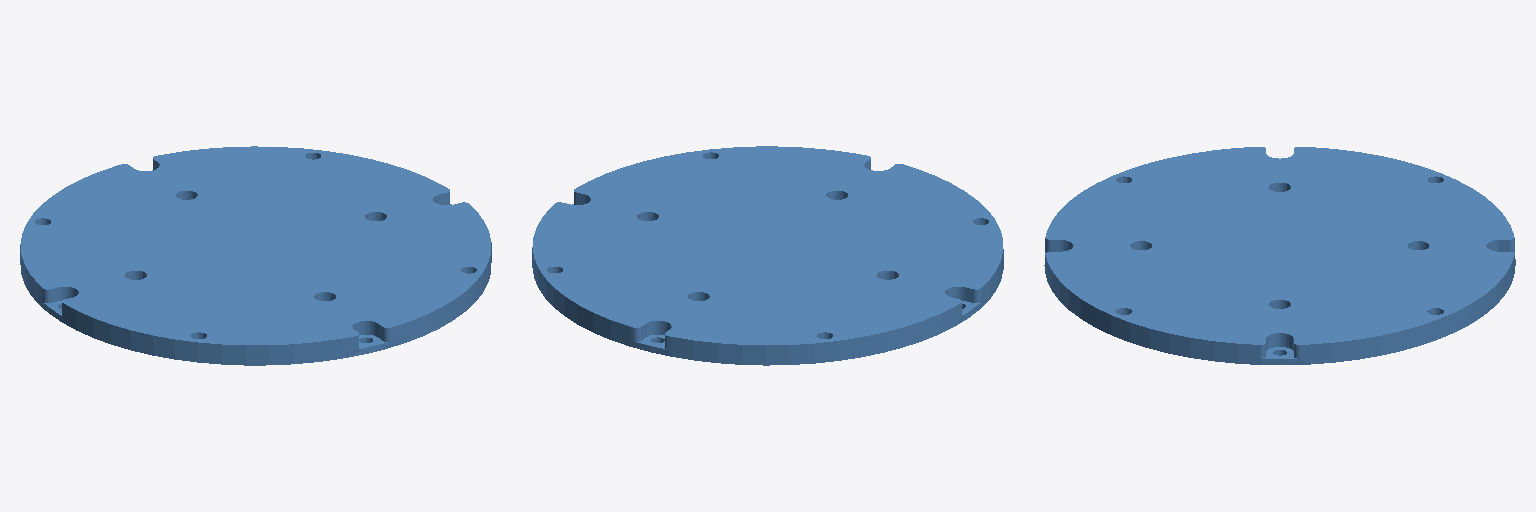
robot.urdf — turntable:
<?xml version="1.0" ?>
<!-- =================================================================================== -->
<!-- |    This document was autogenerated by xacro from [local-path]/MACS/src/Turntable_ROS2_Driver/turntable_description/urdf/turntable.urdf.xacro | -->
<!-- |    EDITING THIS FILE BY HAND IS NOT RECOMMENDED                                 | -->
<!-- =================================================================================== -->
<robot name="turntable">
  <!--
    NOTE the macro defined in this file is NOT part of the public API of this
          package. Users CANNOT rely on this file being available, or stored in
          this location. Nor can they rely on the existence of the macro.
  -->
  <ros2_control name="TurntableSystem" type="system">
    <hardware>
      <plugin>mock_components/GenericSystem</plugin>
      <param name="mock_sensor_commands">true</param>
      <param name="state_following_offset">0.0</param>
      <param name="calculate_dynamics">true</param>
    </hardware>
    <joint name="disc_joint">
      <command_interface name="position"/>
      <state_interface name="position">
        <param name="initial_value">0</param>
      </state_interface>
      <state_interface name="velocity"/>
    </joint>
    <gpio name="speed_scaling">
      <state_interface name="speed_scaling_factor"/>
    </gpio>
  </ros2_control>
  <link name="world"/>
  <!-- Define the turntable name -->
  <!-- BASE LINK -->
  <link name="base_link"/>
  <!-- BASE LINK INERTIA -->
  <link name="base_link_inertia">
    <visual>
      <origin rpy="0 0 0" xyz="0 0 0"/>
      <geometry>
        <mesh filename="package://turntable_description/meshes/collision/turntable_base.stl"/>
      </geometry>
      <material name="grey">
        <color rgba="0.6 0.6 0.6 1.0"/>
      </material>
    </visual>
    <collision>
      <origin rpy="0 0 0" xyz="0 0 0.047"/>
      <geometry>
        <cylinder length="0.094" radius="0.1400"/>
      </geometry>
    </collision>
    <inertial>
      <origin rpy="0 0 0" xyz="0 0 0.047"/>
      <mass value="1.5"/>
      <inertia ixx="0.00540992" ixy="0.0" ixz="0.0" iyy="0.00540992" iyz="0.0" izz="0.00861084"/>
    </inertial>
  </link>
  <!-- DISC LINK -->
  <link name="disc_link">
    <visual>
      <origin rpy="0 0 0" xyz="0 0 0"/>
      <geometry>
        <mesh filename="package://turntable_description/meshes/collision/turntable_disc.stl"/>
      </geometry>
      <material name="blue">
        <color rgba="0.4 0.6 0.8 1.0"/>
      </material>
    </visual>
    <collision>
      <origin rpy="0 0 0" xyz="0 0 0"/>
      <geometry>
        <cylinder length="0.008" radius="0.1016"/>
      </geometry>
    </collision>
    <inertial>
      <origin rpy="0 0 0" xyz="0 0 0"/>
      <mass value="0.31"/>
      <inertia ixx="0.00054849" ixy="0.0" ixz="0.0" iyy="0.00054849" iyz="0.0" izz="0.00109368"/>
    </inertial>
  </link>
  <!-- Object-Co-Ordinate Frame -->
  <link name="object_frame"/>
  <!-- ROS-Industrial 'base' frame - turntable base coordinates -->
  <link name="turntable_base"/>
  <!-- FIXED JOINT TO WORLD -->
  <joint name="base_joint" type="fixed">
    <parent link="world"/>
    <child link="base_link"/>
    <origin rpy="0 0 0" xyz="0 0 0"/>
  </joint>
  <!-- Coordinate System Alignment Joint -->
  <joint name="base_link-base_link_inertia" type="fixed">
    <parent link="base_link"/>
    <child link="base_link_inertia"/>
    <!-- Coordinate alignment - add rotation here if needed for REP-103 compliance -->
    <origin rpy="0 0 0" xyz="0 0 0"/>
  </joint>
  <!-- REVOLUTE JOINT -->
  <joint name="disc_joint" type="revolute">
    <parent link="base_link_inertia"/>
    <child link="disc_link"/>
    <origin rpy="0 0 0" xyz="0 0 0.1015"/>
    <axis xyz="0 0 1"/>
    <limit effort="150.0" lower="-3.14" upper="3.14" velocity="3.14"/>
  </joint>
  <!-- Object Mounted on Turntable: Standard frame reference on top of the disc_link -->
  <joint name="object_mount" type="fixed">
    <parent link="disc_link"/>
    <child link="object_frame"/>
    <origin rpy="0 0 0" xyz="0 0 0"/>
  </joint>
  <!-- ROS-Industrial Base Frame -->
  <joint name="base_link-turntable_base_joint" type="fixed">
    <origin rpy="0 0 0" xyz="0 0 0"/>
    <parent link="base_link"/>
    <child link="turntable_base"/>
  </joint>
  <transmission name="disc_trans">
    <type>transmission_interface/SimpleTransmission</type>
    <joint name="disc_joint">
      <hardwareInterface></hardwareInterface>
    </joint>
    <actuator name="disc_motor">
      <mechanicalReduction>1</mechanicalReduction>
    </actuator>
  </transmission>
</robot>

--- Render facts (derived) ---
3 views of the same robot in one strip: view 1: azimuth 30°, elevation 25°; view 2: azimuth 150°, elevation 25°; view 3: azimuth 270°, elevation 25° (orthographic).
Model turntable with 6 links and 5 joints (1 revolute, 4 fixed), rooted at world, posed all joints at 0.
Visible links, largest first — view 1: disc_link; view 2: disc_link; view 3: disc_link.
Boxes of the visible links, x1,y1,x2,y2 form: disc_link: (20,146,491,365); disc_link: (532,146,1003,365); disc_link: (1044,147,1515,364).
Bounding box of the posed robot: 0.1699 × 0.17 × 0.008 m (x, y, z).
Meshes: 2 distinct files referenced, 1 mesh visuals loaded (1 binary STL); not drawn: 1 (reference not matched to a file when rendering).